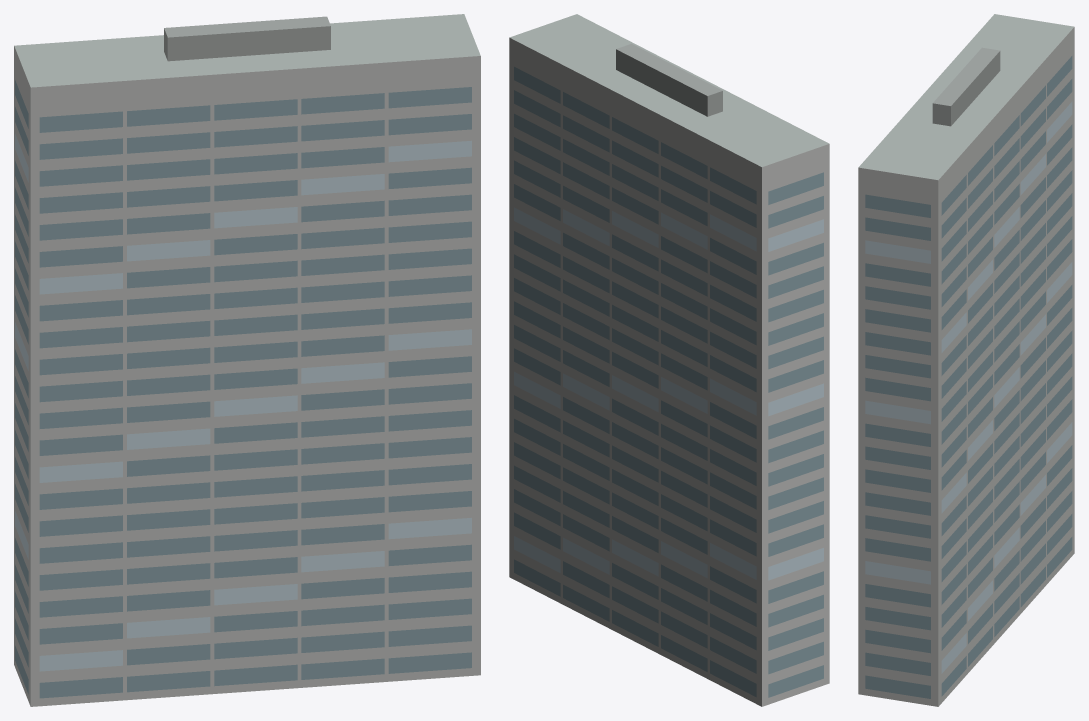
Rendered from fallback-jamsil-els-149.glb.
3 views of the same model, side by side, from view 1: azimuth 30°, elevation 25°; view 2: azimuth 150°, elevation 25°; view 3: azimuth 270°, elevation 25° (orthographic). The views are drawn at different scales.
Visible parts, largest first — view 1: fallback-jamsil-els-149; view 2: fallback-jamsil-els-149; view 3: fallback-jamsil-els-149.
Boxes of the visible parts, left/top/right/bottom form: fallback-jamsil-els-149: left=14, top=14, right=480, bottom=706; fallback-jamsil-els-149: left=509, top=14, right=829, bottom=706; fallback-jamsil-els-149: left=858, top=14, right=1074, bottom=706.
Size of the model in its own units: 42.37 by 65 by 23.3.
